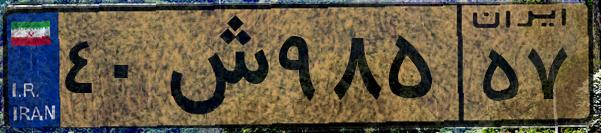0: (110, 28, 158, 98)
4: (57, 26, 110, 100)
5: (385, 28, 445, 110), (475, 38, 525, 113)
7: (525, 38, 570, 115)
8: (330, 28, 385, 110)
9: (270, 28, 330, 110)
ش: (158, 12, 270, 120)
